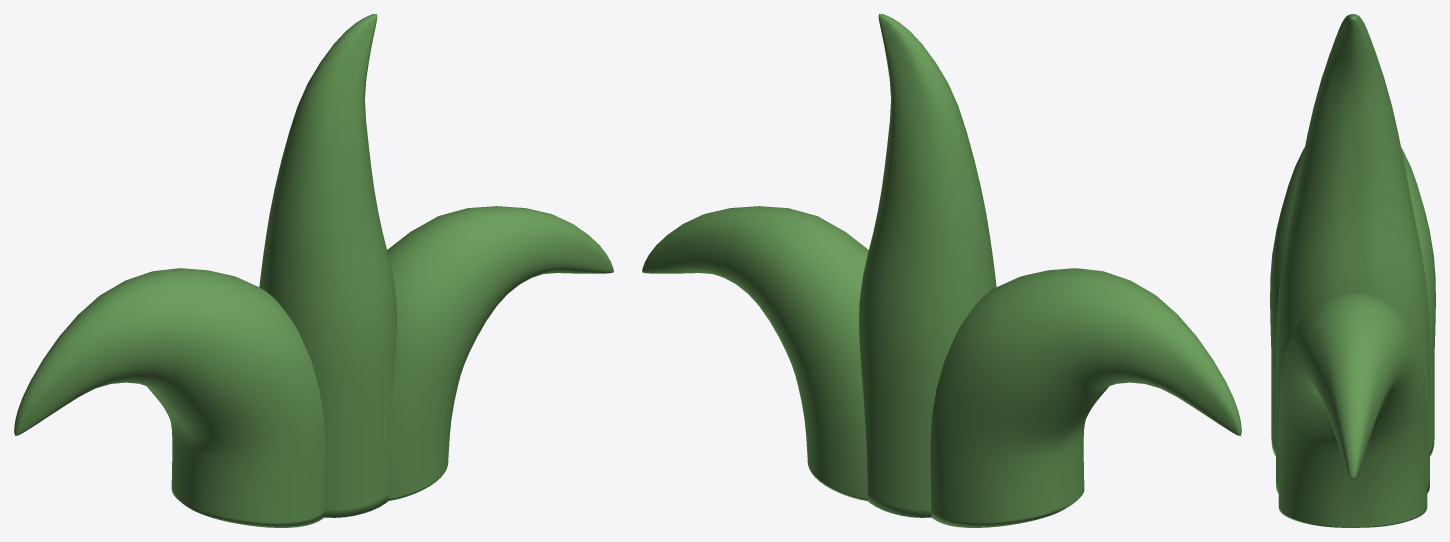
Rendered from Grass_Geo.fbx.
3 views of the same model, side by side, from view 1: azimuth 30°, elevation 25°; view 2: azimuth 150°, elevation 25°; view 3: azimuth 270°, elevation 25° (orthographic). The views are drawn at different scales.
Visible parts, largest first — view 1: Grass_geo; view 2: Grass_geo; view 3: Grass_geo.
Part boxes in pixels (x1=…): Grass_geo: x1=14, y1=14, x2=613, y2=527; Grass_geo: x1=642, y1=14, x2=1241, y2=527; Grass_geo: x1=1270, y1=14, x2=1435, y2=527.
Size of the model in its own units: 14.2 by 10.49 by 3.18.
